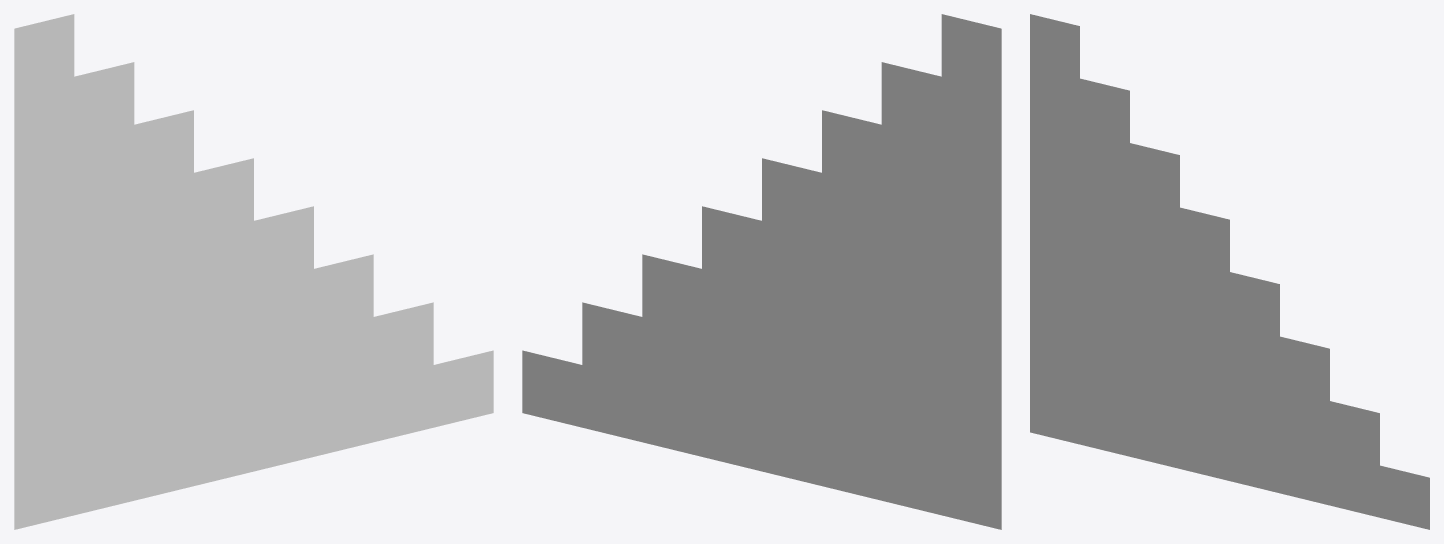
Rendered from chr193_wtf.obj.
3 views of the same model, side by side, from view 1: azimuth 30°, elevation 25°; view 2: azimuth 150°, elevation 25°; view 3: azimuth 330°, elevation 25° (orthographic). The views are drawn at different scales.
Parts seen in each view (by area): view 1: group1; view 2: group1; view 3: group1.
Boxes of the visible parts, left/top/right/bottom form: group1: left=14, top=14, right=493, bottom=529; group1: left=522, top=14, right=1001, bottom=529; group1: left=1030, top=14, right=1429, bottom=529.
Size of the model in its own units: 660 by 660 by 1.4e-05.
